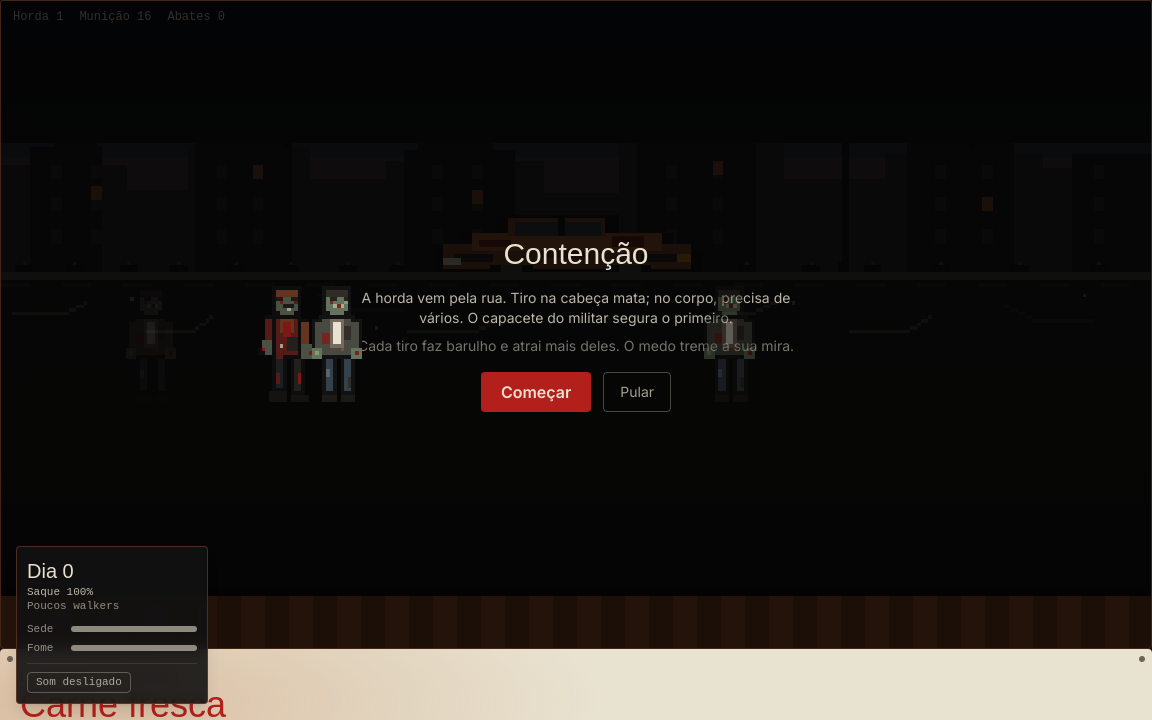
Test: HordeGame › falls when the horde reaches the barricade
Click the button "Começar" at coordinates (536, 392), box [481,372,591,412]
Wait 15000 ms
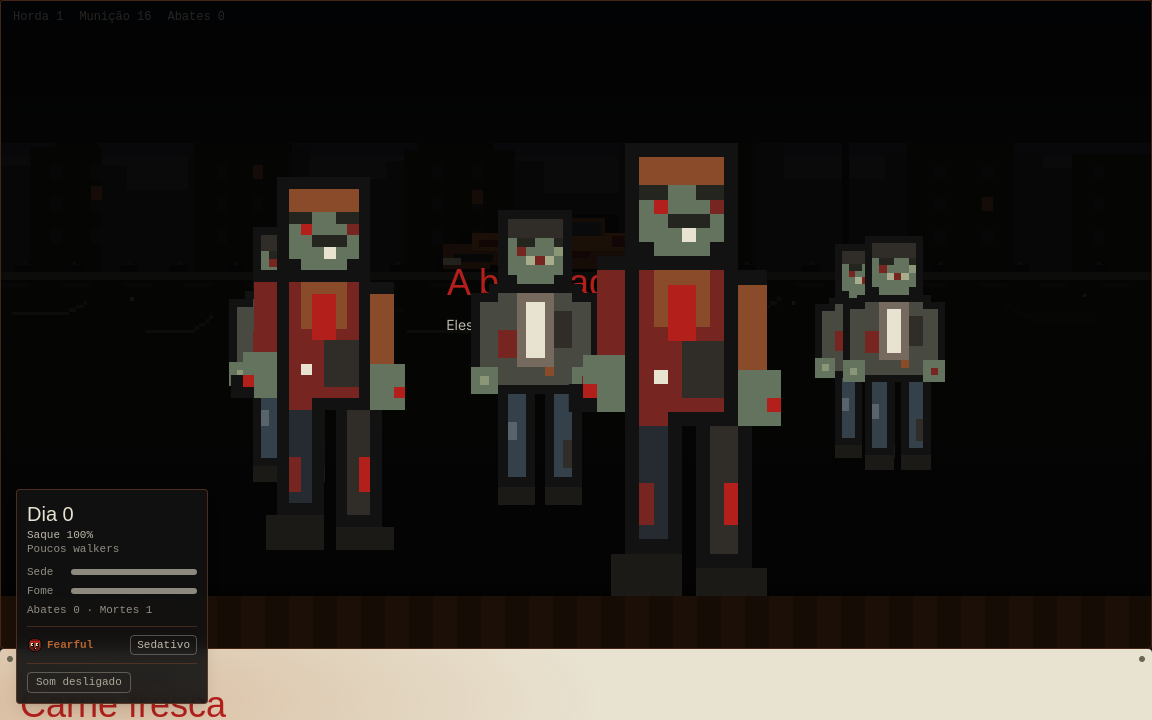
Check: the heading "A barricada caiu" is shown, box [447,263,705,303]
Check: the message named "sobrevivente" shows "Mortes 1", box [16,489,208,704]
